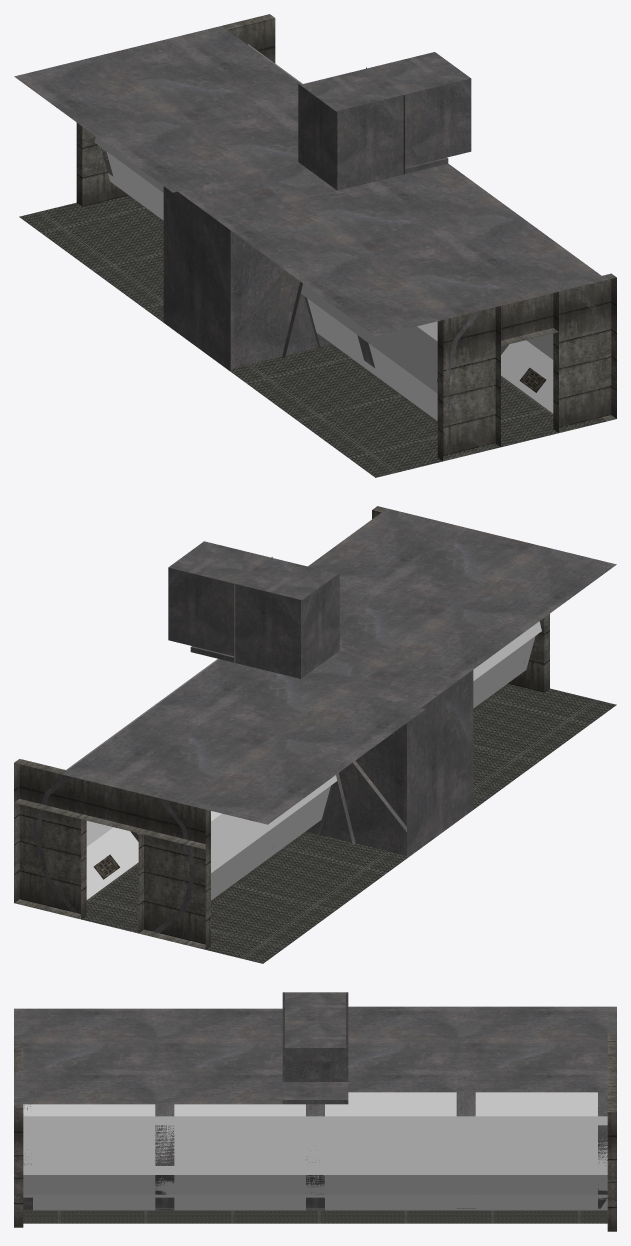
The model's file is HC_room2_2.obj.
3 views of the same model, one above another, from view 1: azimuth 30°, elevation 25°; view 2: azimuth 150°, elevation 25°; view 3: azimuth 270°, elevation 25° (orthographic). The views are drawn at different scales.
Visible parts, largest first — view 1: room2tunnels2; view 2: room2tunnels2; view 3: room2tunnels2.
Boxes of the visible parts, x1,y1,x2,y2 form: room2tunnels2: (14, 14, 616, 477); room2tunnels2: (14, 506, 616, 963); room2tunnels2: (14, 992, 616, 1231).
Bounding box in the file's own units: 8.64 × 6.97 × 20.48.
